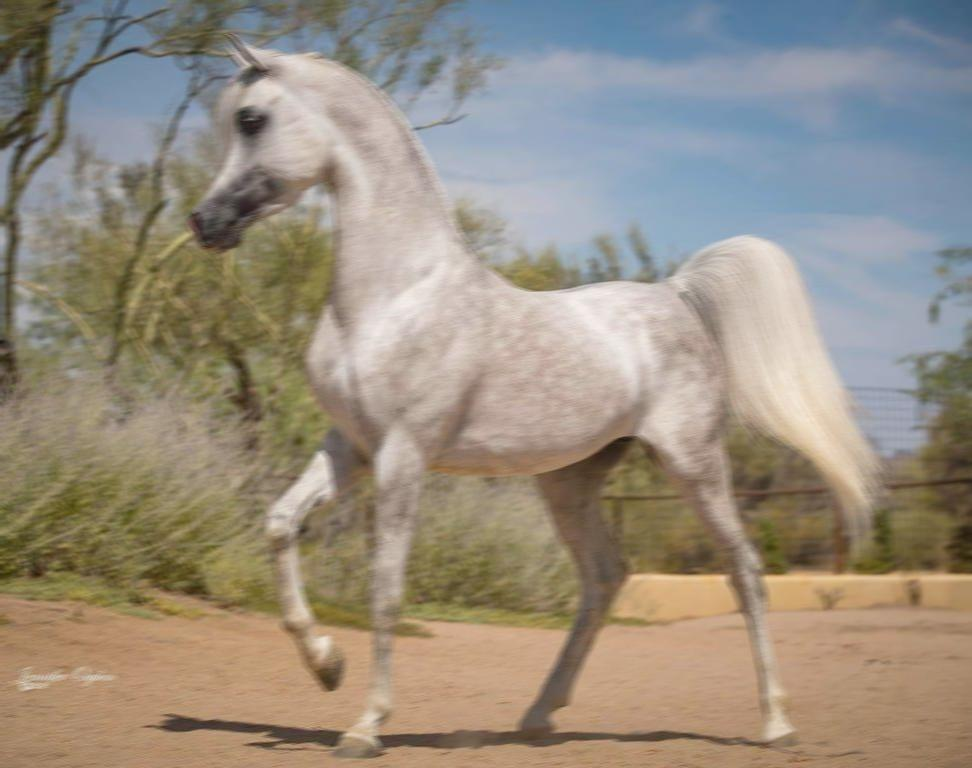horse: (184, 30, 893, 758)
